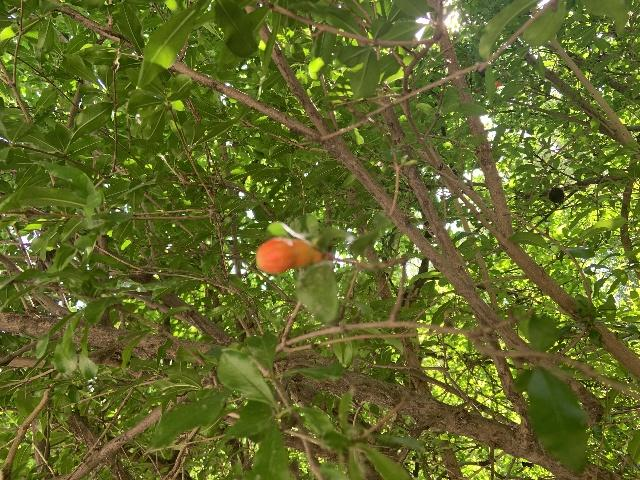bud: (256, 238, 321, 274)
